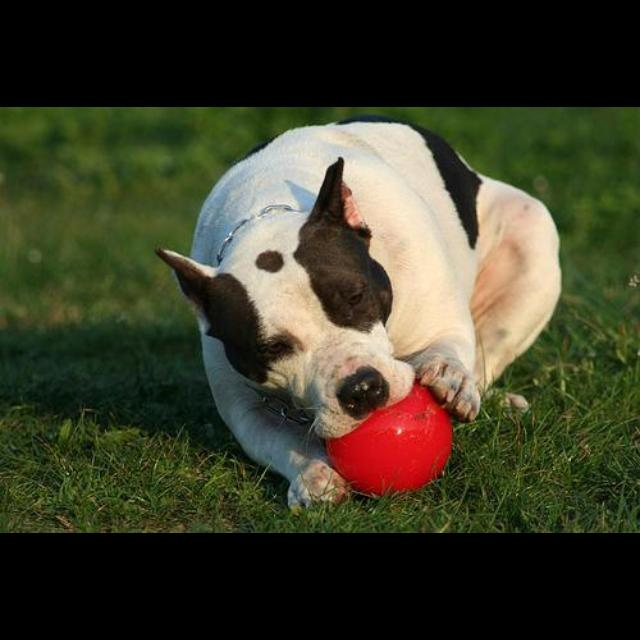amstaff: (155, 115, 564, 515)
